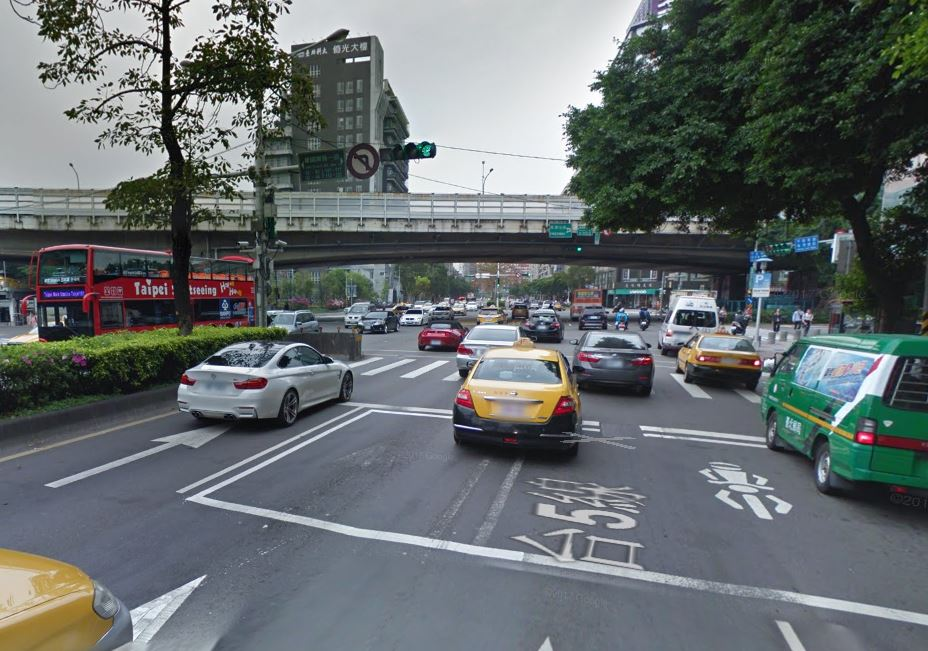No_left_turn: (347, 143, 378, 178)
Traffic_light_green: (393, 140, 437, 161)
